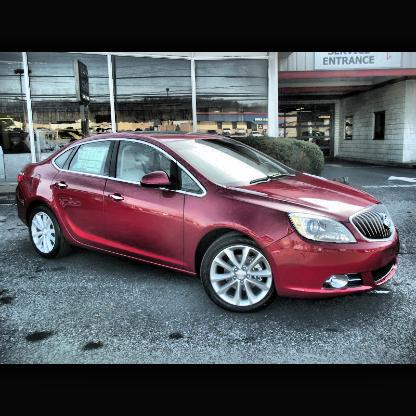Buick Verano Sedan 2012: (17, 133, 402, 313)
